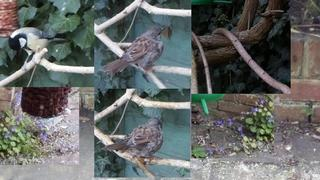dunnock: (100, 27, 165, 75), (101, 115, 164, 164)
great tit: (8, 27, 68, 72)
